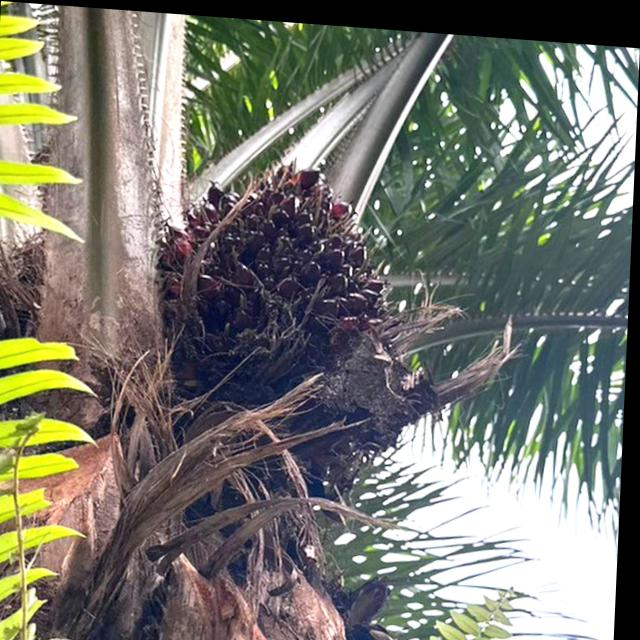ripe: (150, 135, 399, 401)
